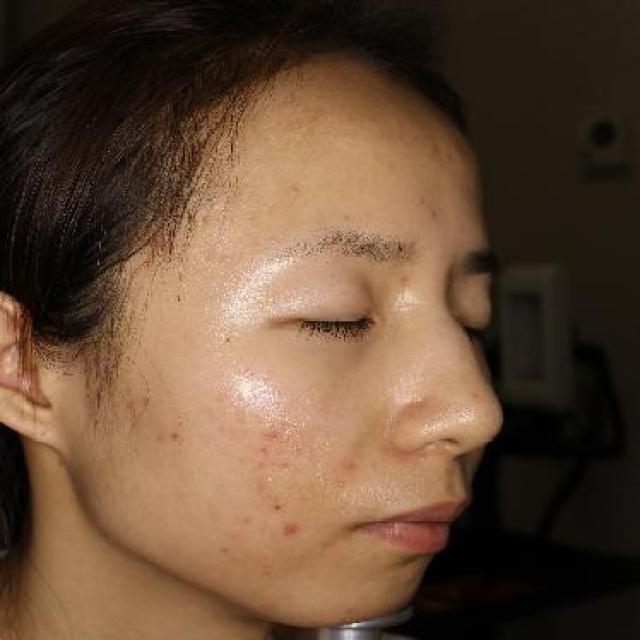dark spot: (240, 458, 274, 498), (164, 423, 188, 451), (138, 389, 158, 409), (251, 443, 279, 457), (279, 457, 298, 475)
papules: (279, 518, 303, 538)
whiteheads: (340, 457, 358, 480), (284, 180, 301, 203), (265, 426, 284, 442)
